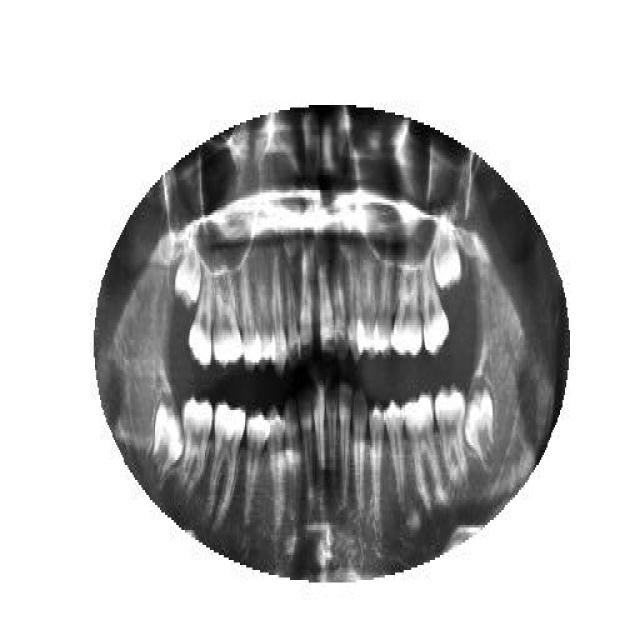Impacted Tooth: (148, 398, 186, 490), (462, 380, 498, 468)
